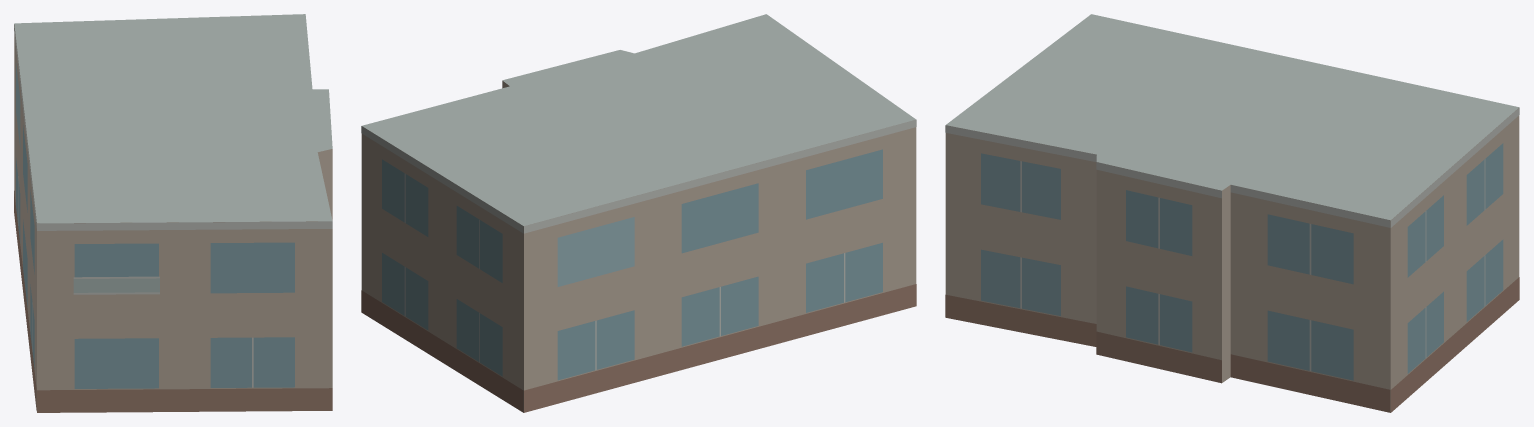
File: survey-upis-32669654.glb
3 views of the same model, side by side, from view 1: azimuth 30°, elevation 25°; view 2: azimuth 150°, elevation 25°; view 3: azimuth 270°, elevation 25° (orthographic). The views are drawn at different scales.
Visible parts, largest first — view 1: survey-upis-32669654.tmp; view 2: survey-upis-32669654.tmp; view 3: survey-upis-32669654.tmp.
Boxes of the visible parts, x1,y1,x2,y2 form: survey-upis-32669654.tmp: [14, 14, 332, 412]; survey-upis-32669654.tmp: [361, 14, 916, 412]; survey-upis-32669654.tmp: [945, 14, 1519, 412].
Bounding box in the file's own units: 14.03 × 6.1 × 16.49.
